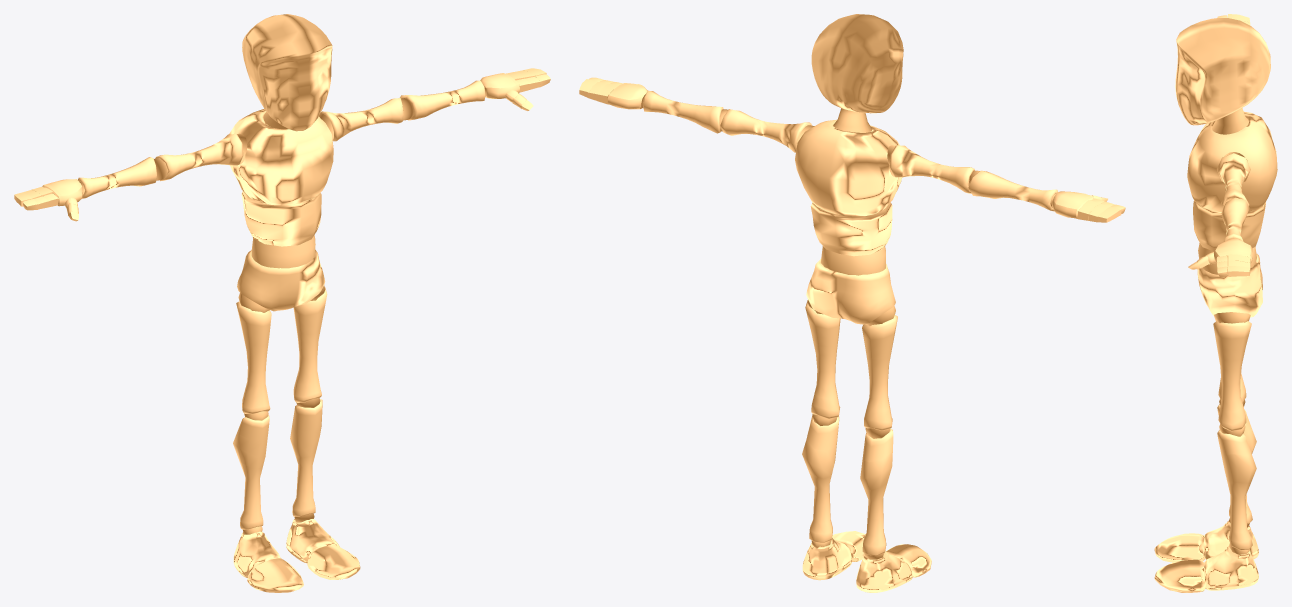
The model's file is walking_test.fbx.
3 views of the same model, side by side, from view 1: azimuth 30°, elevation 25°; view 2: azimuth 150°, elevation 25°; view 3: azimuth 270°, elevation 25° (orthographic).
Parts seen in each view (by area): view 1: WALK03:Bony_head, WALK03:Bony_chest, WALK03:Bony_R_leg, WALK03:Bony_L_leg, WALK03:Bony_pelvis, WALK03:Bony_R_arm, WALK03:Bony_spine2, WALK03:Bony_L_arm, WALK03:Bony_R_toe, WALK03:Bony_spine1, WALK03:Bony_L_toe, WALK03:Bony_L_foot (+2 smaller); view 2: WALK03:Bony_chest, WALK03:Bony_head, WALK03:Bony_R_leg, WALK03:Bony_L_leg, WALK03:Bony_pelvis, WALK03:Bony_R_arm, WALK03:Bony_L_arm, WALK03:Bony_spine2, WALK03:Bony_R_foot, WALK03:Bony_L_foot, WALK03:Bony_spine1, WALK03:Bony_R_toe (+2 smaller); view 3: WALK03:Bony_head, WALK03:Bony_L_leg, WALK03:Bony_chest, WALK03:Bony_pelvis, WALK03:Bony_L_arm, WALK03:Bony_L_foot, WALK03:Bony_spine2, WALK03:Bony_L_toe, WALK03:Bony_R_toe, WALK03:Bony_R_foot, WALK03:Bony_neck, WALK03:Bony_R_leg (+4 smaller).
Boxes of the visible parts, x1,y1,x2,y2 form: WALK03:Bony_head: [242, 14, 332, 131]; WALK03:Bony_chest: [229, 108, 333, 205]; WALK03:Bony_R_leg: [233, 301, 271, 529]; WALK03:Bony_L_leg: [290, 287, 327, 516]; WALK03:Bony_pelvis: [237, 250, 325, 311]; WALK03:Bony_R_arm: [78, 134, 243, 198]; WALK03:Bony_spine2: [241, 191, 321, 246]; WALK03:Bony_L_arm: [320, 80, 485, 141]; WALK03:Bony_R_toe: [247, 558, 303, 592]; WALK03:Bony_spine1: [251, 235, 315, 268]; WALK03:Bony_L_toe: [307, 545, 360, 579]; WALK03:Bony_L_foot: [286, 519, 339, 563]; WALK03:Bony_chest: [795, 119, 901, 216]; WALK03:Bony_head: [811, 14, 903, 113]; WALK03:Bony_R_leg: [860, 315, 897, 555]; WALK03:Bony_L_leg: [802, 300, 840, 542]; WALK03:Bony_pelvis: [806, 258, 895, 324]; WALK03:Bony_R_arm: [889, 145, 1057, 211]; WALK03:Bony_L_arm: [643, 90, 811, 152]; WALK03:Bony_spine2: [810, 202, 892, 256]; WALK03:Bony_R_foot: [856, 551, 912, 592]; WALK03:Bony_L_foot: [802, 538, 851, 580]; WALK03:Bony_spine1: [821, 246, 885, 275]; WALK03:Bony_R_toe: [886, 544, 931, 577]; WALK03:Bony_head: [1175, 18, 1270, 125]; WALK03:Bony_L_leg: [1213, 321, 1256, 550]; WALK03:Bony_chest: [1187, 112, 1277, 212]; WALK03:Bony_pelvis: [1197, 253, 1262, 317]; WALK03:Bony_L_arm: [1217, 153, 1250, 241]; WALK03:Bony_L_foot: [1204, 546, 1258, 590]; WALK03:Bony_spine2: [1193, 200, 1265, 251]; WALK03:Bony_L_toe: [1154, 559, 1205, 592]; WALK03:Bony_R_toe: [1154, 533, 1205, 562]; WALK03:Bony_R_foot: [1204, 520, 1258, 559]; WALK03:Bony_neck: [1212, 108, 1248, 134]; WALK03:Bony_R_leg: [1217, 373, 1256, 523].
Bounding box in the file's own units: 9.33 × 9.24 × 1.88.
